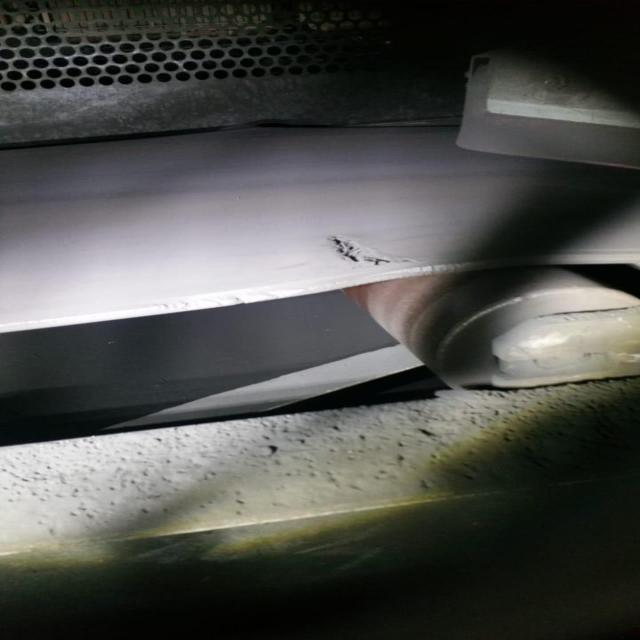Tear: (320, 221, 428, 276)
